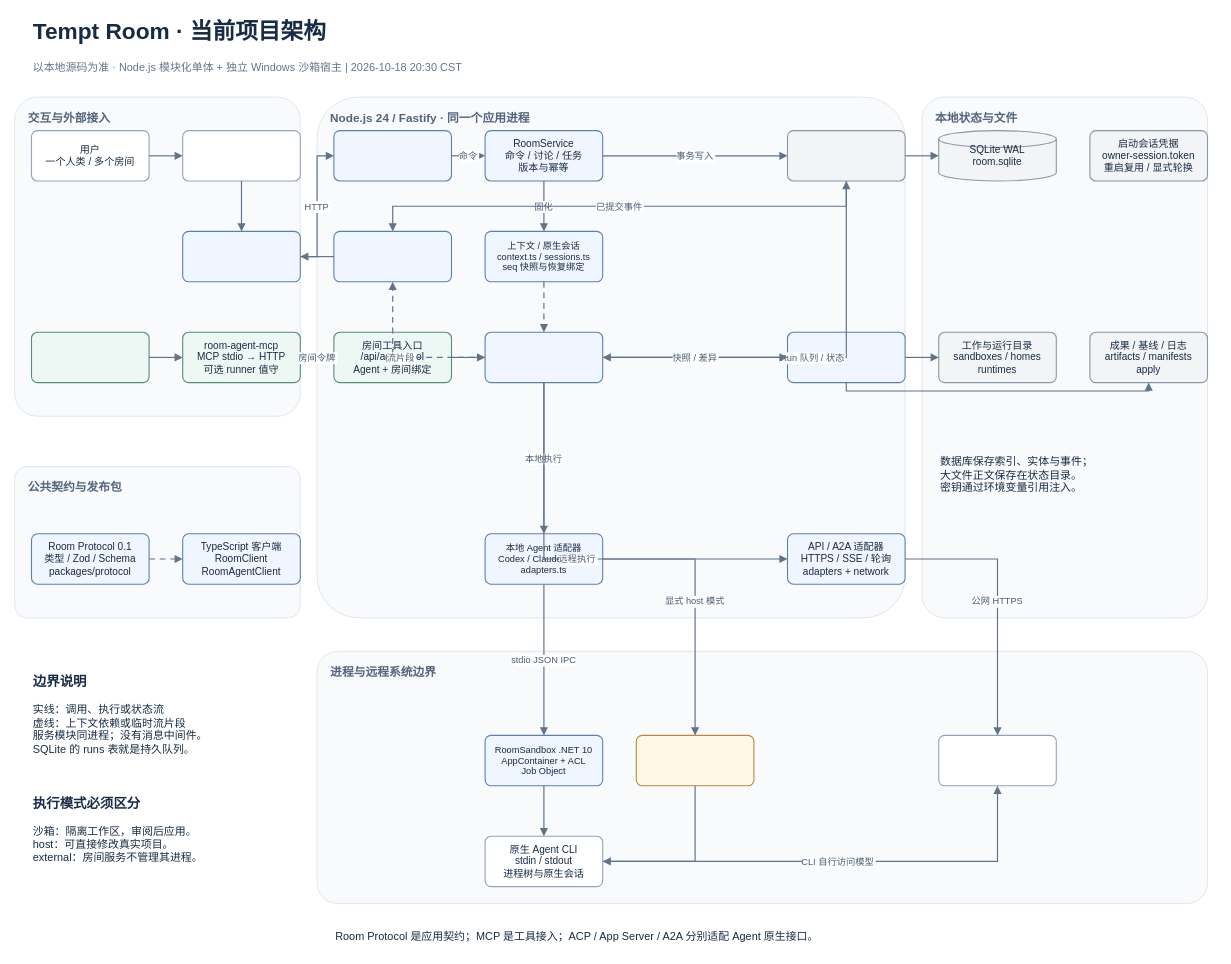
Some shapes in this 1231 by 964 pixel diagram are drawn without their labels. The shapes that lost their labels are listed below. From the top down, each one's centre as x and y in pixels, then its label:
(x=241, y=155): React 19 + Vite 时间线 / 任务 / 设置
(x=392, y=155): Fastify HTTP 认证 / 来源 / 版本 app.ts
(x=846, y=155): Store 事务 / 事件日志 提交后发布通知
(x=241, y=256): RoomClient HTTP 命令与查询 WS 游标恢复
(x=392, y=256): WebSocket /events 持久事件 + 临时 delta app.ts
(x=90, y=357): 外部 Agent 会话 Codex / Claude / DSH 自行管理进程与登录
(x=543, y=357): Worker 250 ms 调度 / 并发 取消 / 工具 / 成果
(x=846, y=357): Workspaces 快照 / 差异 / 应用 基线与路径检查
(x=694, y=760): 本机直连 HostChannel 当前用户权限 HostRoomPipe
(x=997, y=760): 公网服务 模型 API / 远程 A2A 独立远程端点
